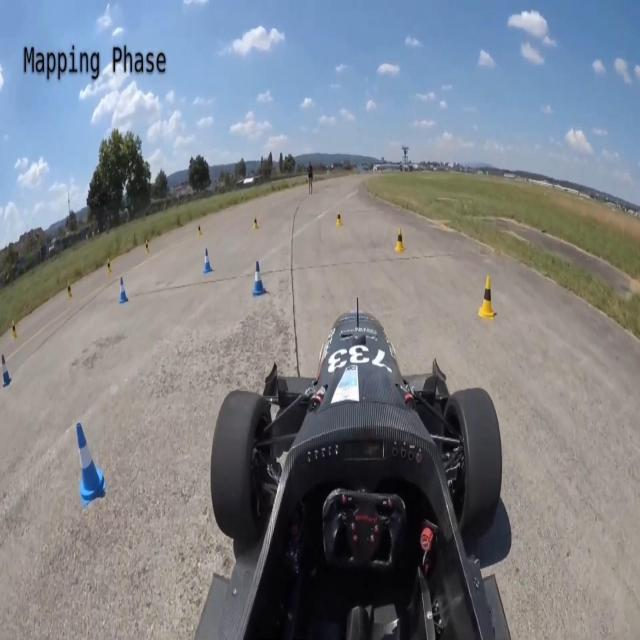blue_cone: (66, 412, 110, 511), (249, 255, 269, 300), (115, 272, 135, 314), (198, 245, 214, 277)
yellow_cone: (475, 272, 500, 321), (396, 223, 410, 259), (334, 202, 344, 236)
